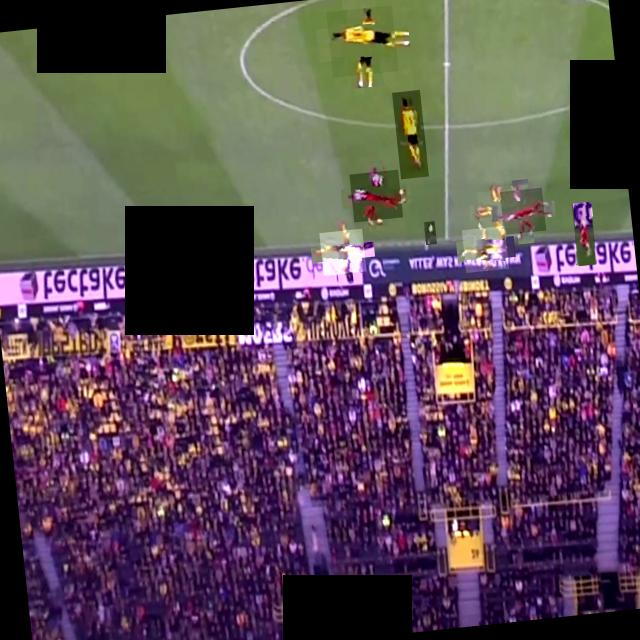ball: (424, 220, 436, 244)
soccer-player: (326, 4, 399, 77), (392, 90, 428, 178), (349, 169, 403, 222), (319, 228, 366, 276), (462, 225, 508, 272), (500, 187, 546, 234), (476, 188, 520, 230), (572, 201, 596, 266)
